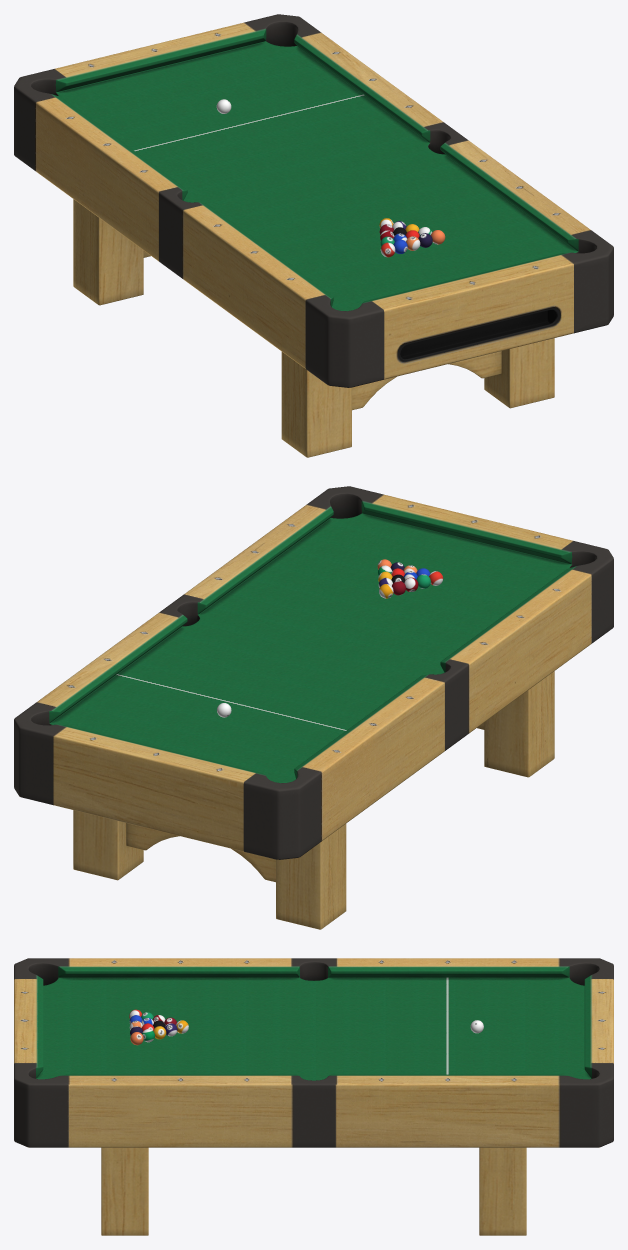
The model's file is entertainment4.glb.
3 renders of one model, top to bottom at view 1: azimuth 30°, elevation 25°; view 2: azimuth 150°, elevation 25°; view 3: azimuth 270°, elevation 25°, orthographic. The views are drawn at different scales.
Parts seen in each view (by area): view 1: 10523_Pool_Table_v1_L3; view 2: 10523_Pool_Table_v1_L3; view 3: 10523_Pool_Table_v1_L3.
Boxes of the visible parts, x1,y1,x2,y2 form: 10523_Pool_Table_v1_L3: (14,14,613,457); 10523_Pool_Table_v1_L3: (14,486,613,929); 10523_Pool_Table_v1_L3: (14,958,613,1235).
Size of the model in its own units: 127 by 76.36 by 254.
Materials: 1 (1 with a texture image).
